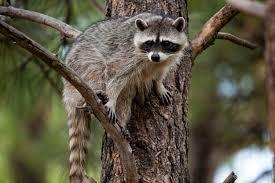raccoon: (53, 4, 196, 183)
